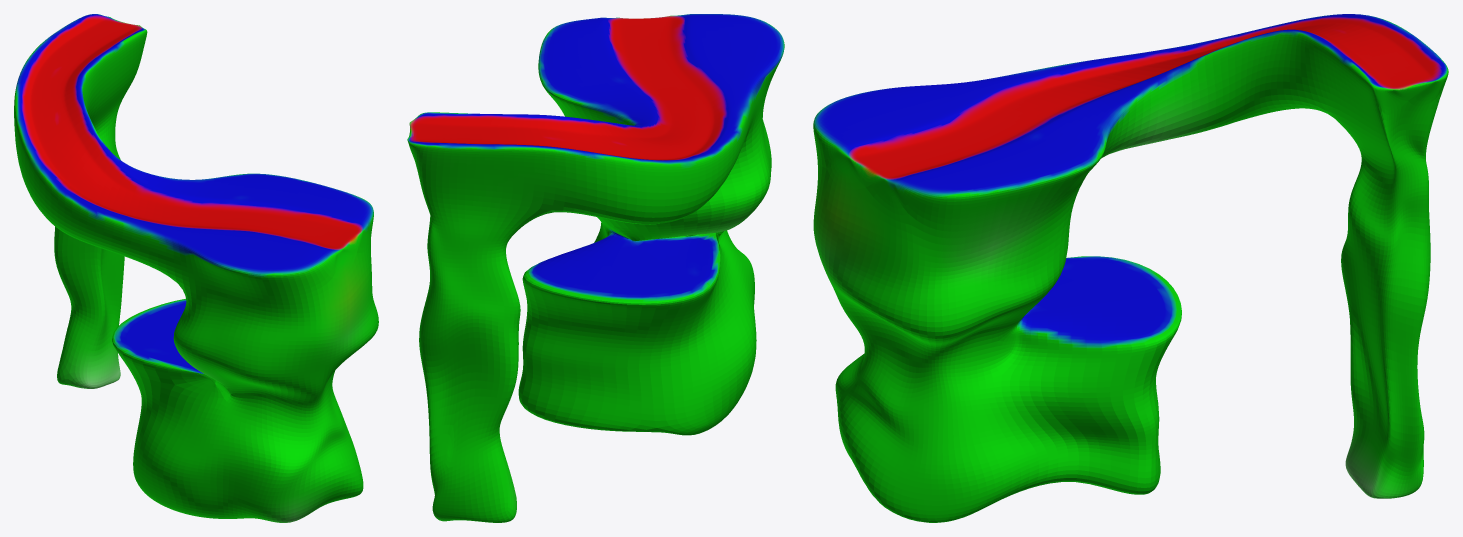
File: level_one_platform_6.fbx
The picture shows the model from 3 angles, left to right: view 1: azimuth 30°, elevation 25°; view 2: azimuth 150°, elevation 25°; view 3: azimuth 270°, elevation 25°; orthographic projection. The views are drawn at different scales.
Visible parts, largest first — view 1: Platform06; view 2: Platform06; view 3: Platform06.
Part boxes in pixels (bbox=[...]): Platform06: bbox=[14, 14, 378, 522]; Platform06: bbox=[407, 14, 784, 522]; Platform06: bbox=[813, 14, 1448, 522].
Size of the model in its own units: 644 by 926 by 1230.
